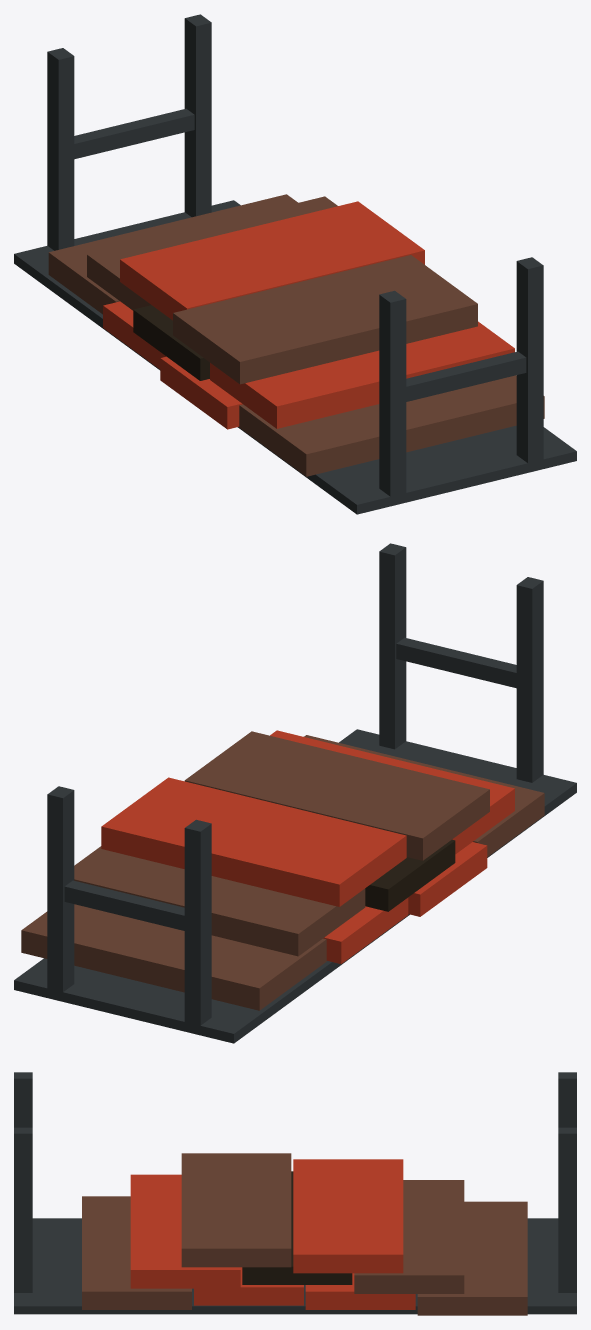
Rendered from SM_object_for_crane_03.glb.
3 renders of one model, top to bottom at view 1: azimuth 30°, elevation 25°; view 2: azimuth 150°, elevation 25°; view 3: azimuth 270°, elevation 25°, orthographic. The views are drawn at different scales.
Visible parts, largest first — view 1: SM_object_for_crane_03; view 2: SM_object_for_crane_03; view 3: SM_object_for_crane_03.
Part boxes in pixels (bbox=[...]): SM_object_for_crane_03: bbox=[14, 14, 576, 514]; SM_object_for_crane_03: bbox=[14, 543, 576, 1043]; SM_object_for_crane_03: bbox=[14, 1072, 576, 1315].
Bounding box in the file's own units: 1.22 × 0.9022 × 2.75.
Materials: 1 (1 with a texture image).
